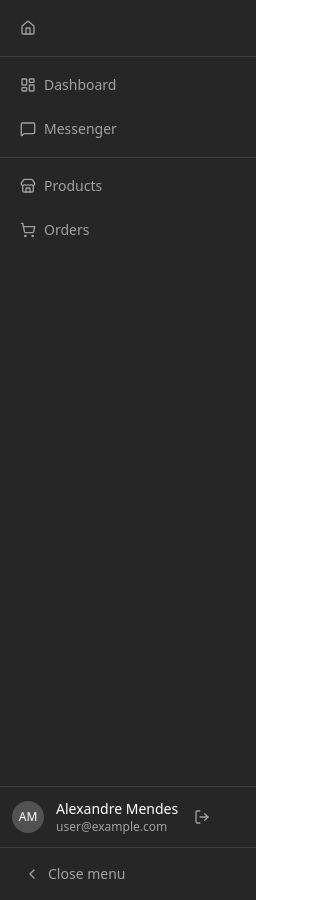
it: <Sidebar /> - Collapse › collapses when toggle button is clicked
Click the button with aria-label "Collapse sidebar" at (128, 874), box top-left (8, 856), bottom-right (248, 892)
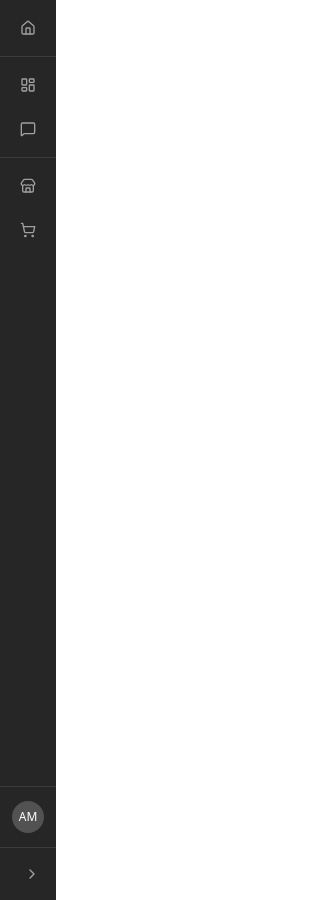
Expected: the button with aria-label "Expand sidebar" is shown, top-left (8, 856), bottom-right (48, 892)
